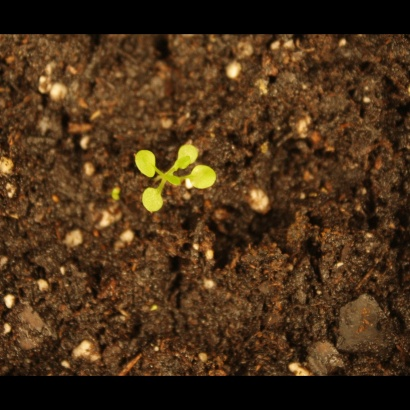leaf: (187, 163, 218, 195), (134, 149, 160, 180), (139, 186, 166, 213), (175, 143, 201, 167)
